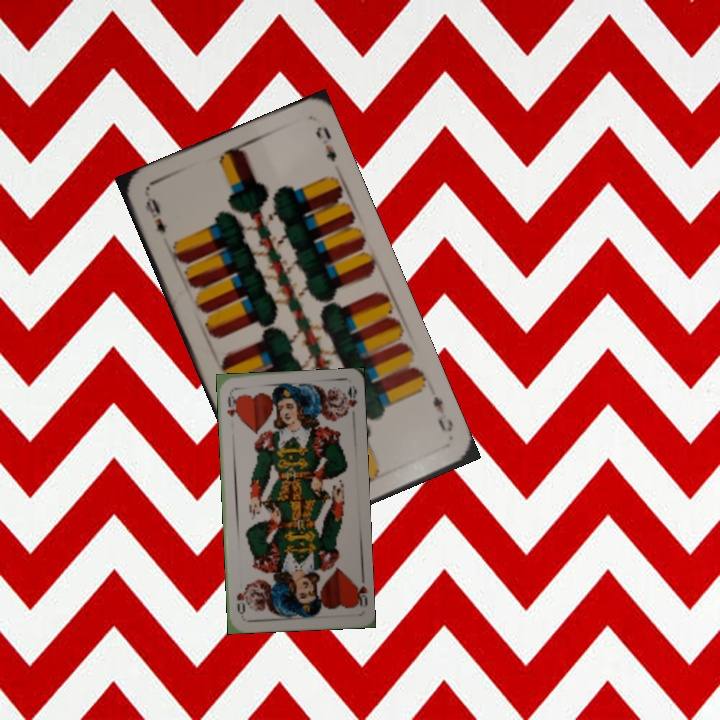E9: (428, 392, 456, 435), (141, 193, 169, 235)
HO: (349, 571, 370, 610), (223, 392, 241, 420)
